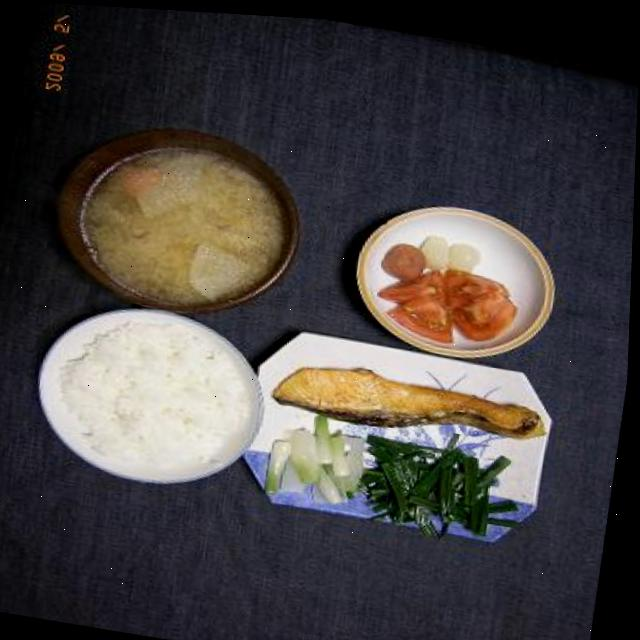熟制海鲜: (262, 343, 564, 455)
